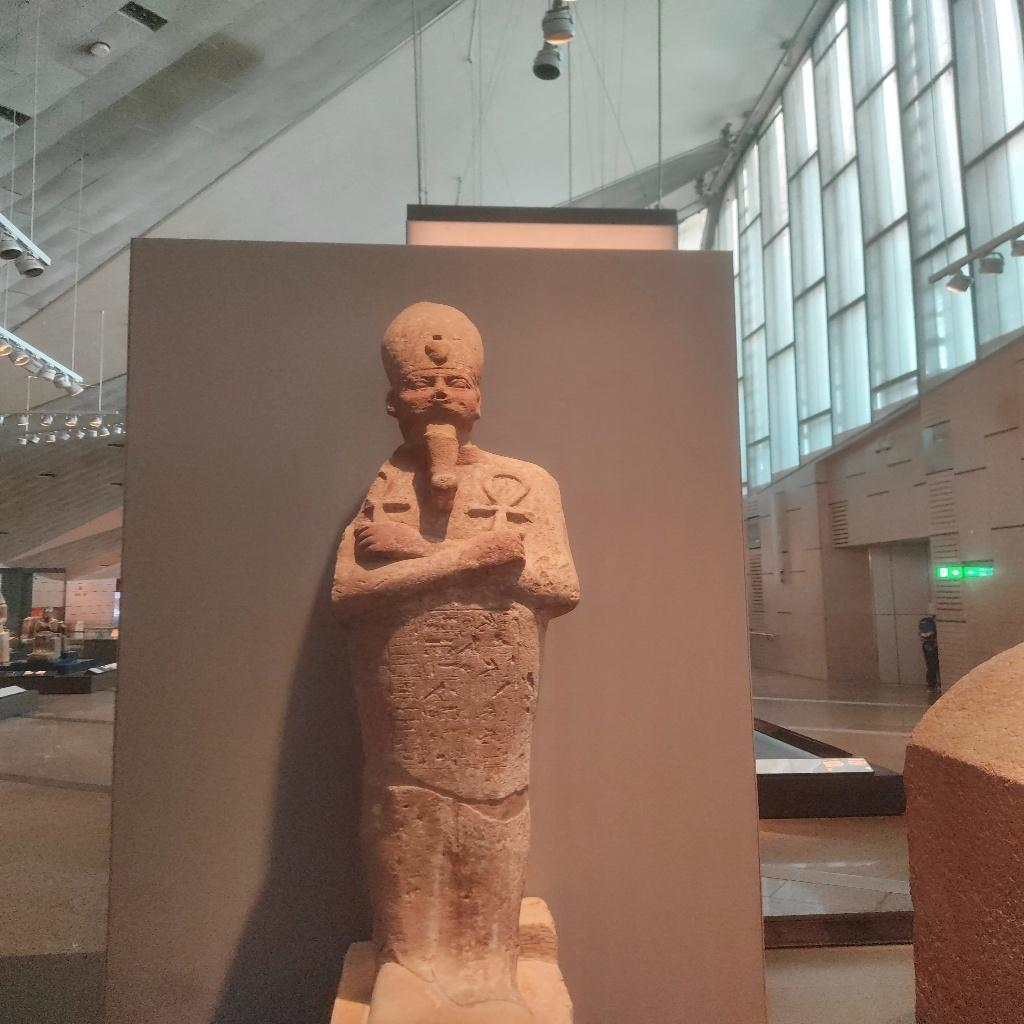Statue of Mentuhotep II: (328, 285, 580, 1024)
